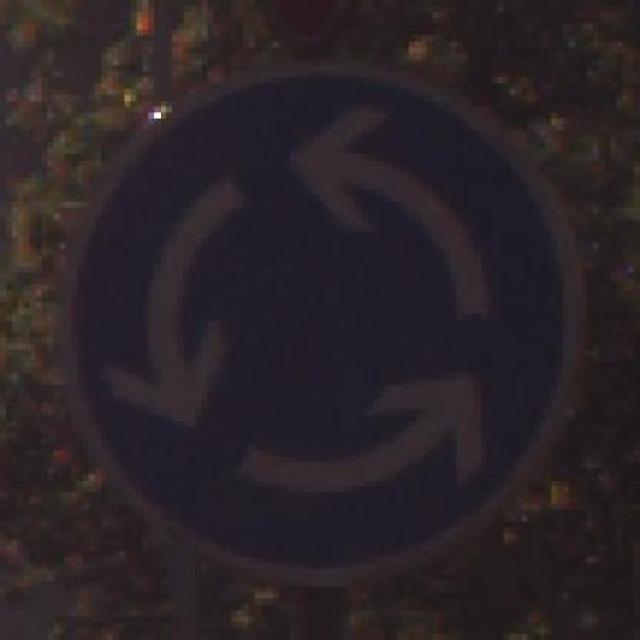Round-About: (35, 42, 623, 616)
